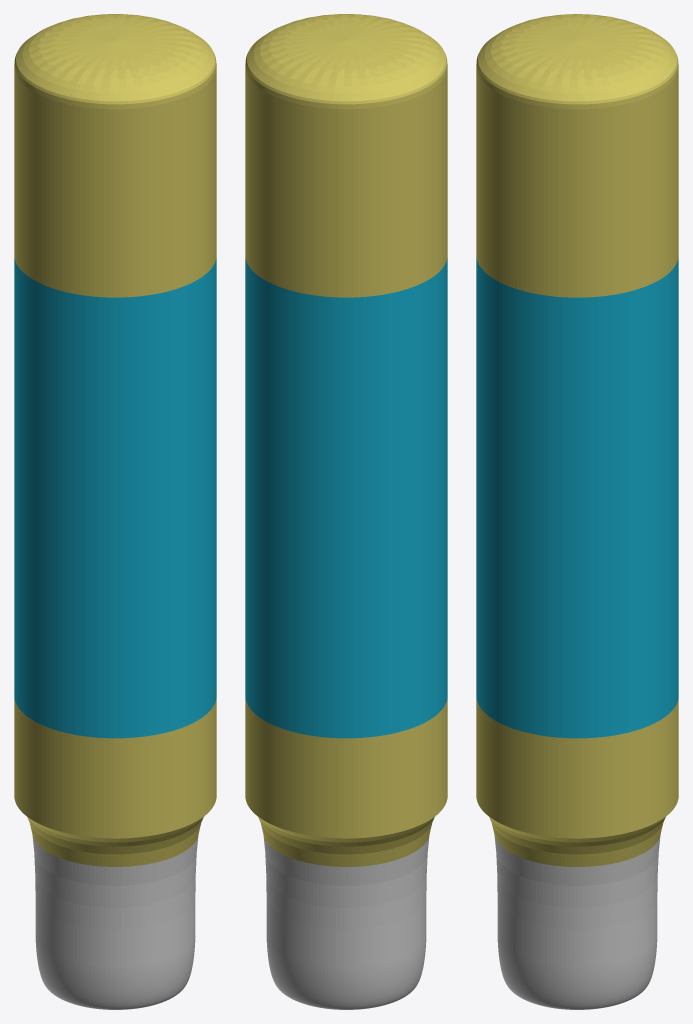
Rendered from GlueStick.fbx.
The picture shows the model from 3 angles, left to right: view 1: azimuth 30°, elevation 25°; view 2: azimuth 150°, elevation 25°; view 3: azimuth 270°, elevation 25°; orthographic projection.
Visible parts, largest first — view 1: Cylinder; view 2: Cylinder; view 3: Cylinder.
Boxes of the visible parts, x1=… form: Cylinder: x1=14, y1=14, x2=216, y2=1009; Cylinder: x1=245, y1=14, x2=447, y2=1009; Cylinder: x1=476, y1=14, x2=678, y2=1009.
Bounding box in the file's own units: 66.6 × 341 × 66.6.
